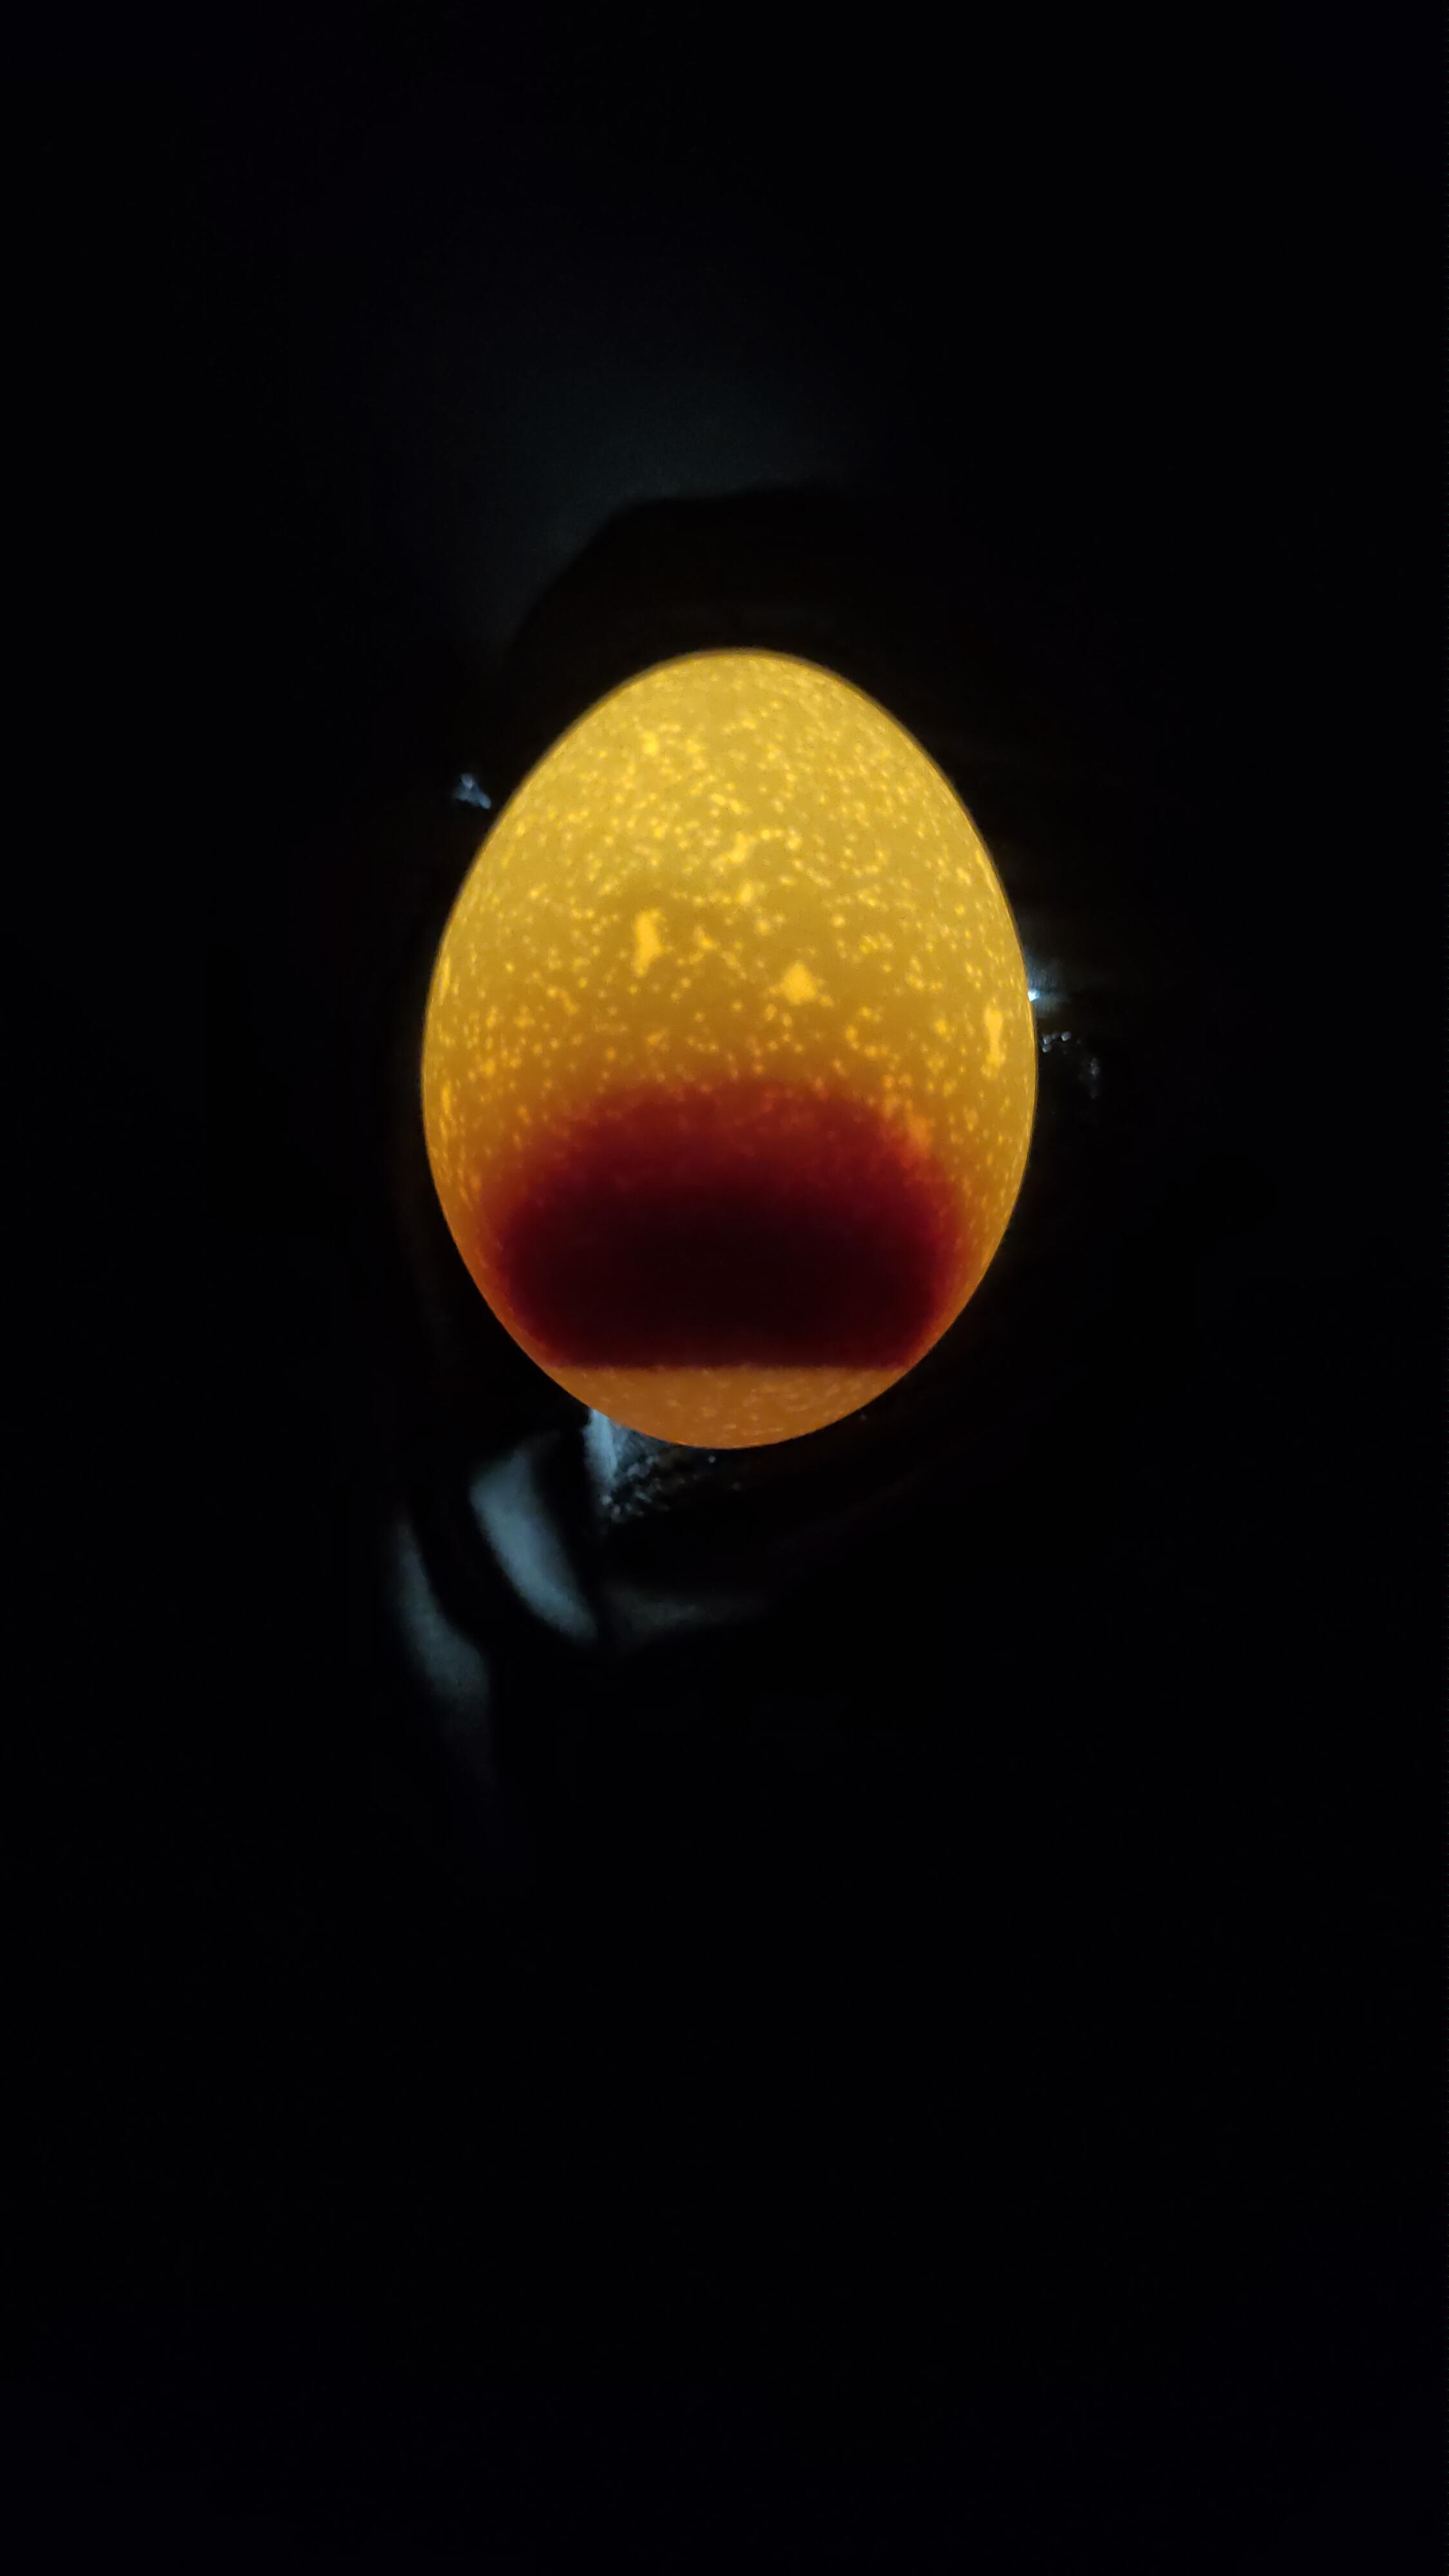AA - Premium: (380, 600, 1092, 1493)
